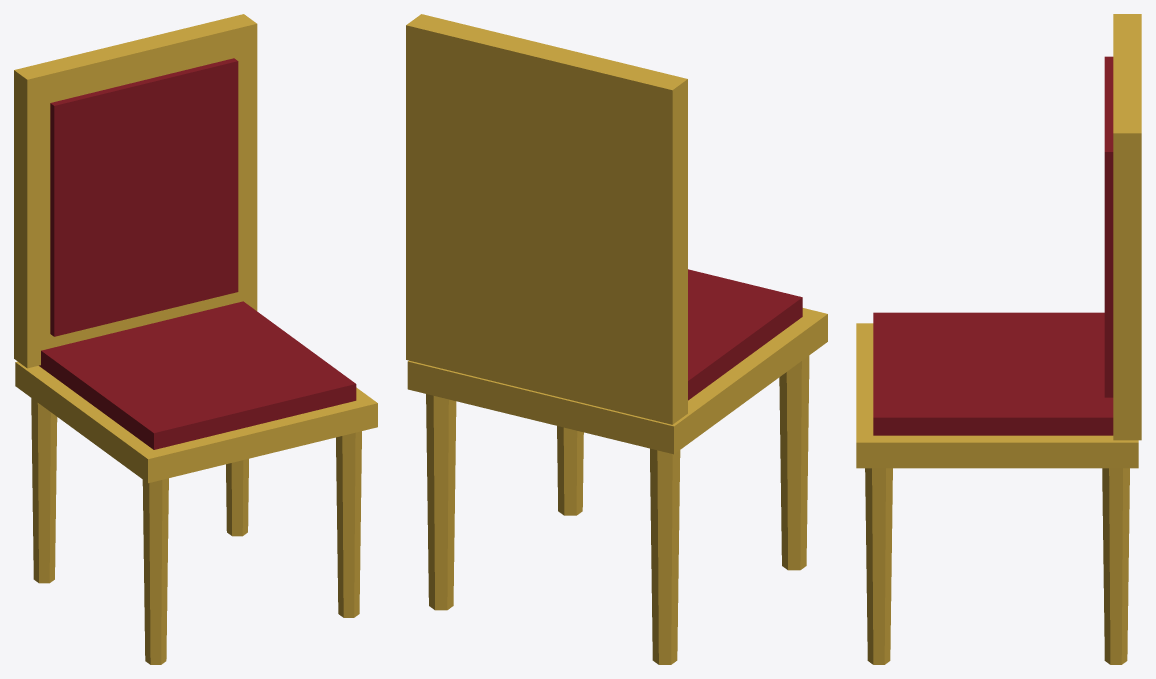
File: auction_chair.glb
3 views of the same model, side by side, from view 1: azimuth 30°, elevation 25°; view 2: azimuth 150°, elevation 25°; view 3: azimuth 270°, elevation 25° (orthographic). The views are drawn at different scales.
Visible parts, largest first — view 1: back_auction_velvet, seat_auction_velvet, back_auction_gold, legs_auction_gold (×4), seat_auction_gold; view 2: back_auction_gold, legs_auction_gold (×4), seat_auction_gold, seat_auction_velvet; view 3: seat_auction_velvet, back_auction_gold, seat_auction_gold, legs_auction_gold (×2), back_auction_velvet.
Part boxes in pixels (x1,y1,x2,y2): back_auction_velvet: [50, 58, 238, 336]; seat_auction_velvet: [39, 301, 356, 449]; back_auction_gold: [14, 14, 257, 368]; legs_auction_gold (×4): [31, 398, 361, 664]; seat_auction_gold: [15, 361, 377, 483]; back_auction_gold: [406, 14, 687, 424]; legs_auction_gold (×4): [426, 356, 809, 664]; seat_auction_gold: [407, 308, 827, 454]; seat_auction_velvet: [688, 269, 802, 400]; seat_auction_velvet: [873, 312, 1113, 435]; back_auction_gold: [1113, 14, 1141, 440]; seat_auction_gold: [856, 323, 1138, 468]; legs_auction_gold (×2): [865, 468, 1129, 664]; back_auction_velvet: [1104, 56, 1113, 397].
Size of the model in its own units: 0.5 by 1.05 by 0.505.
